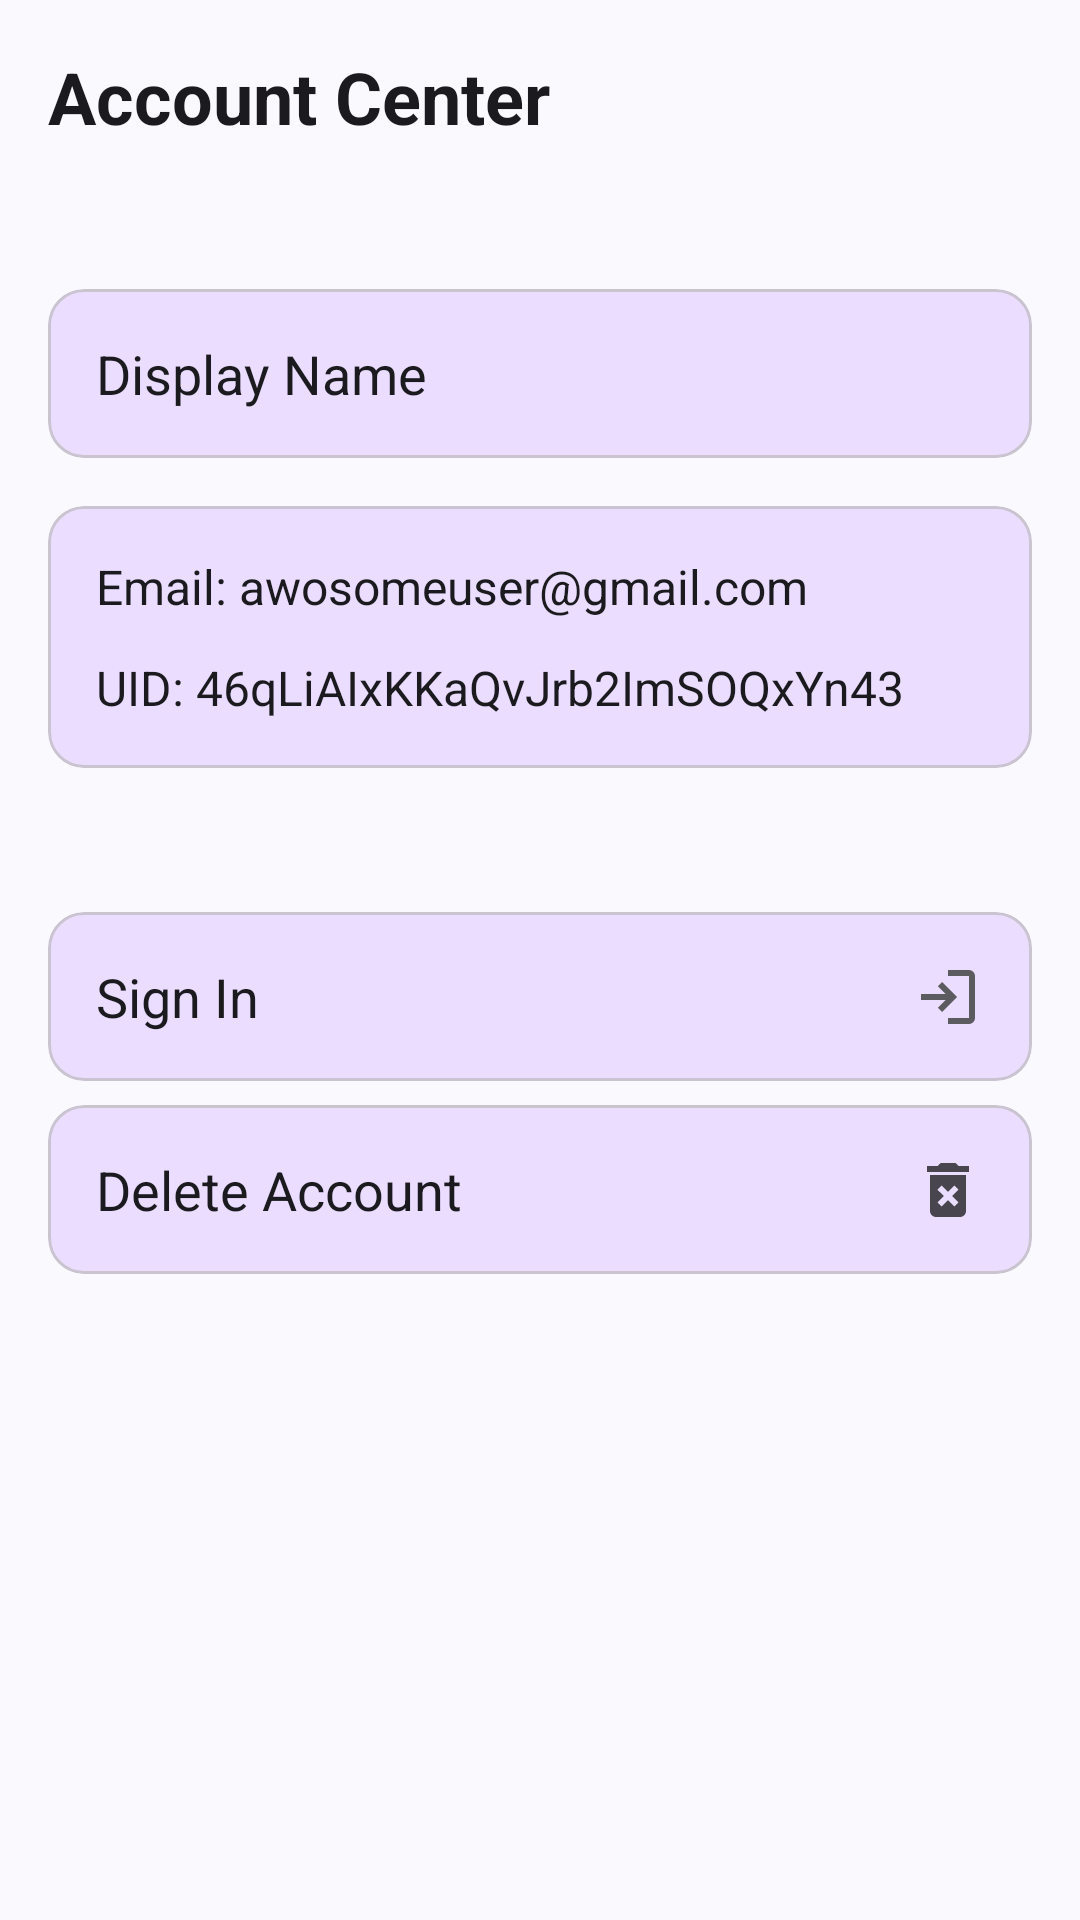

Icon bounding boxes for this 1080w x 1920h phone screenshot, format (x1, y1, x2, y2):
delete forever: (927, 1163, 969, 1217)
login: (921, 970, 975, 1024)
